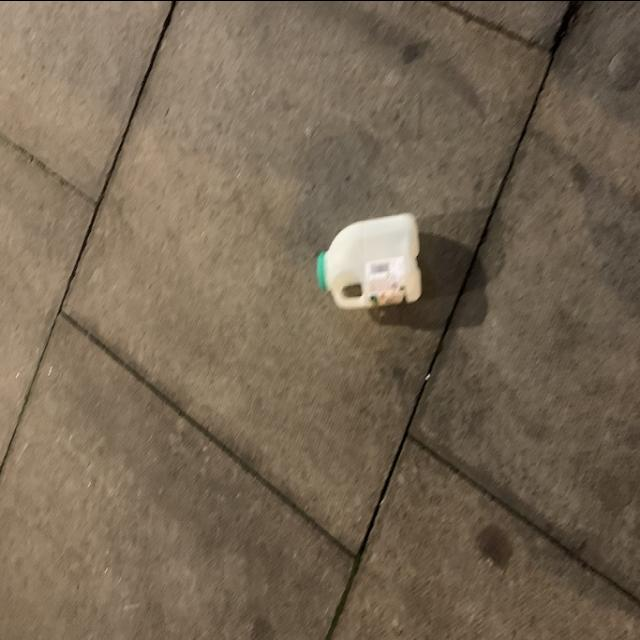HDPEM: (316, 206, 432, 314)
